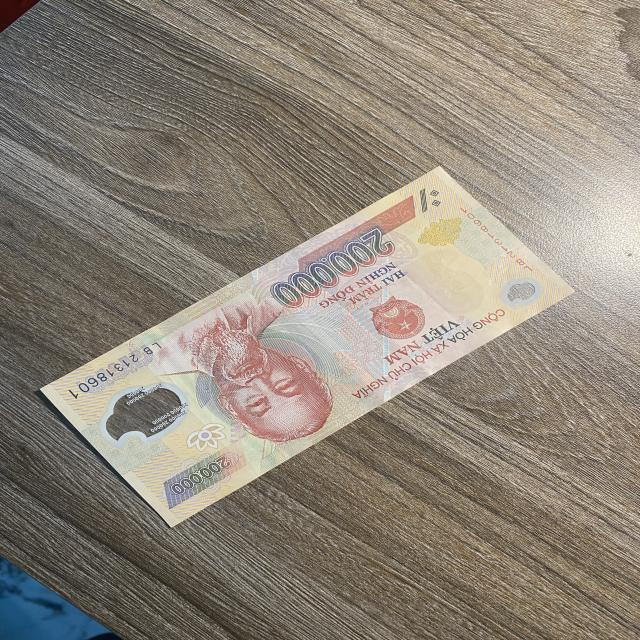200 000 VND: (35, 165, 578, 530)
